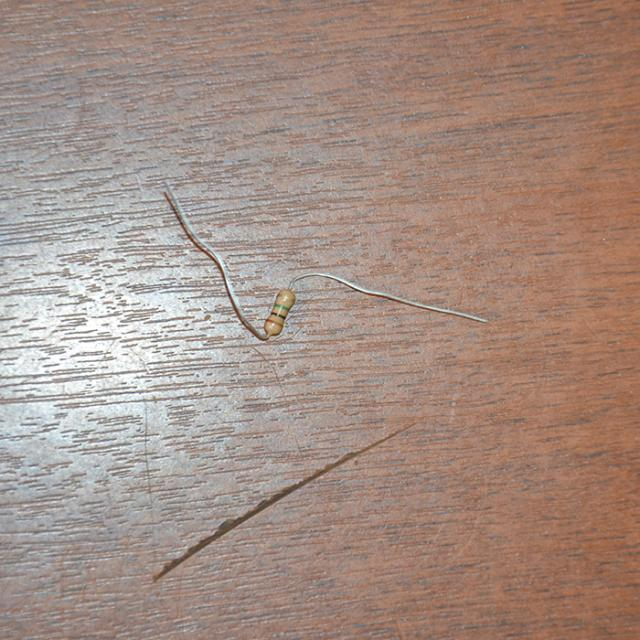black: (272, 310, 284, 318)
brown: (266, 318, 282, 327)
gold: (278, 292, 295, 303)
green: (275, 303, 290, 311)
resistor: (259, 283, 304, 343)
